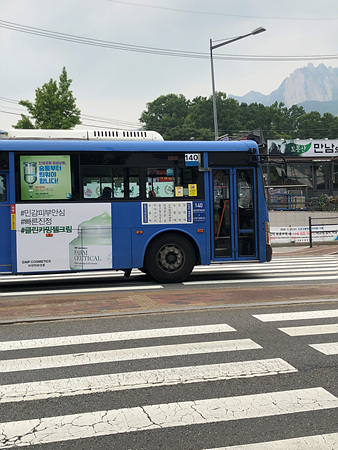entrance: (208, 156, 261, 263)
